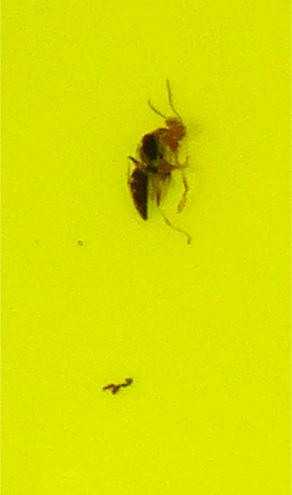Hymenoptera: (123, 100, 192, 223)
